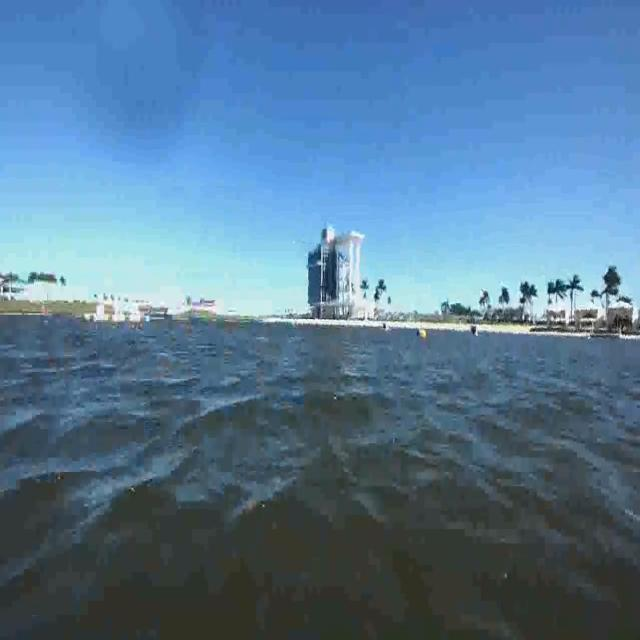yellow-buoy: (419, 327, 426, 338)
